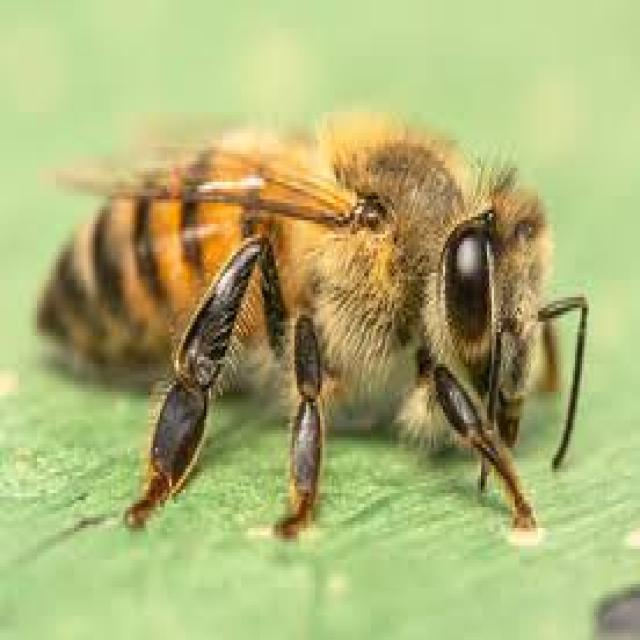Bees: (32, 102, 594, 563)
